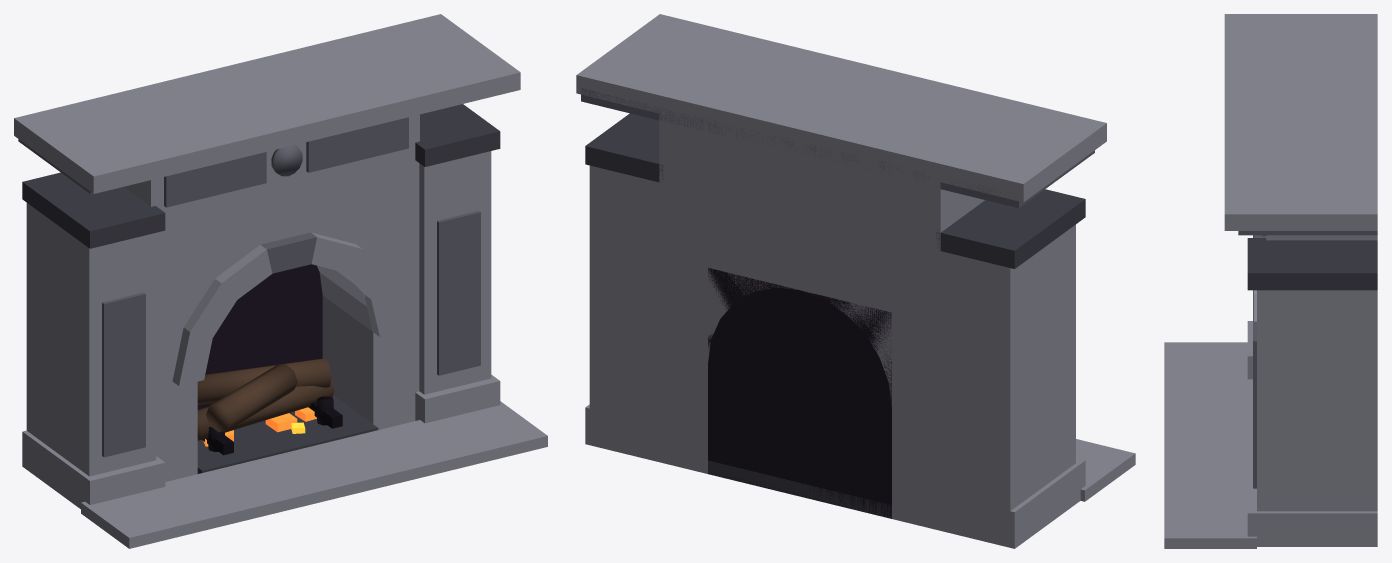
File: fireplace_dancers.glb
The picture shows the model from 3 angles, left to right: view 1: azimuth 30°, elevation 25°; view 2: azimuth 150°, elevation 25°; view 3: azimuth 270°, elevation 25°; orthographic projection. The views are drawn at different scales.
Visible parts, largest first — view 1: fireplace_dancers; view 2: fireplace_dancers; view 3: fireplace_dancers.
Boxes of the visible parts, x1,y1,x2,y2 form: fireplace_dancers: (14,14,547,548); fireplace_dancers: (576,14,1135,548); fireplace_dancers: (1164,14,1377,548).
Size of the model in its own units: 1.02 by 0.8 by 0.46.
